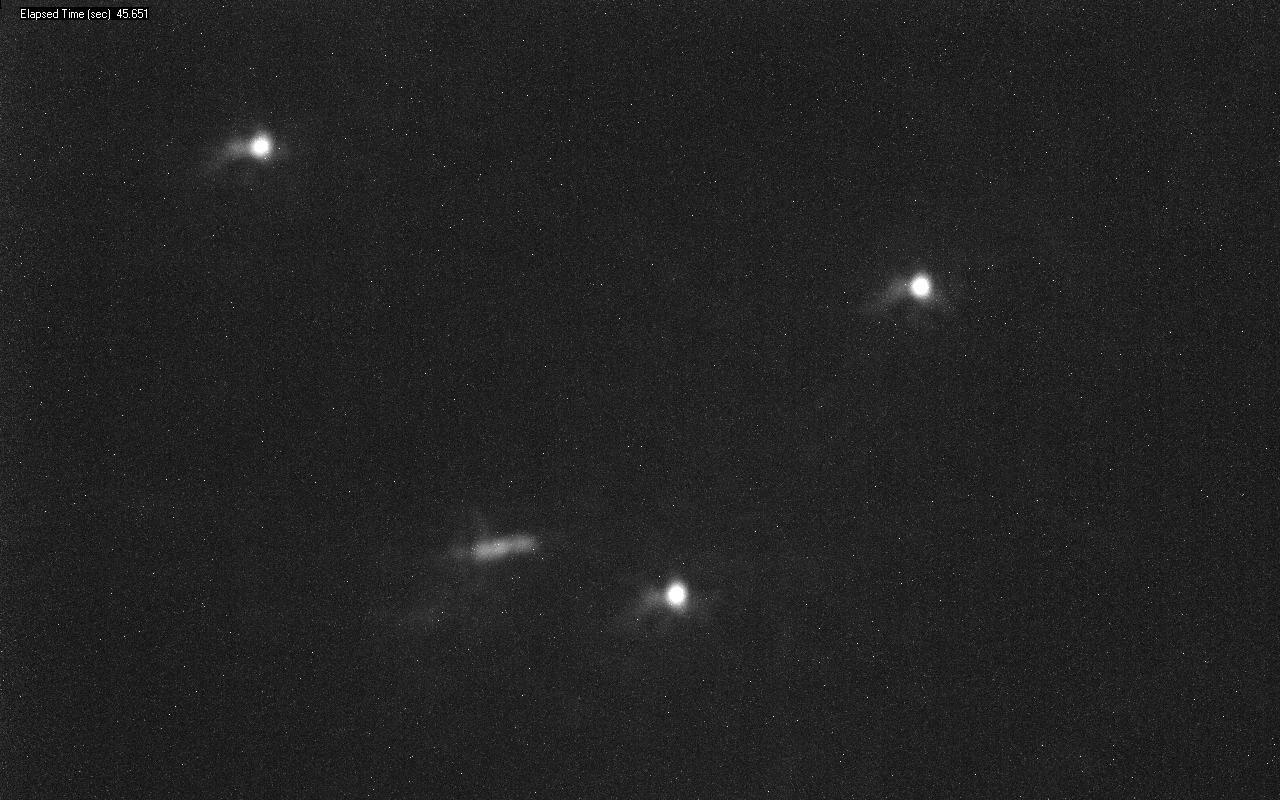Bead: (661, 577, 691, 612), (902, 272, 932, 303), (248, 136, 273, 162)
